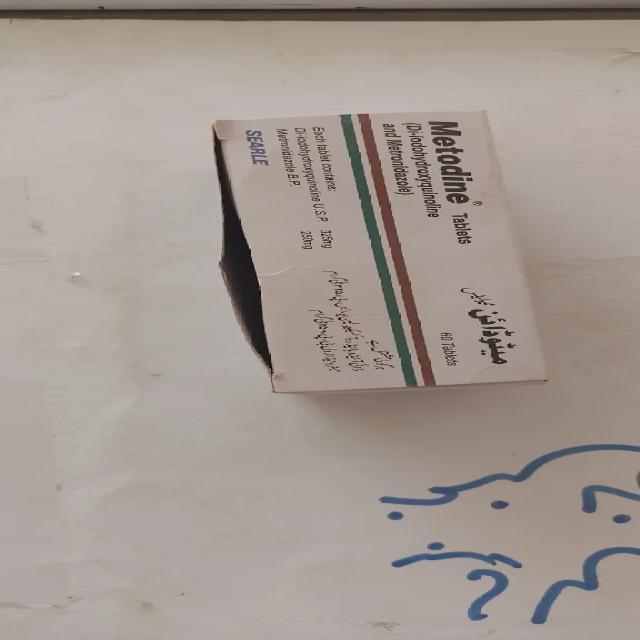drug-name: (424, 118, 477, 208)
